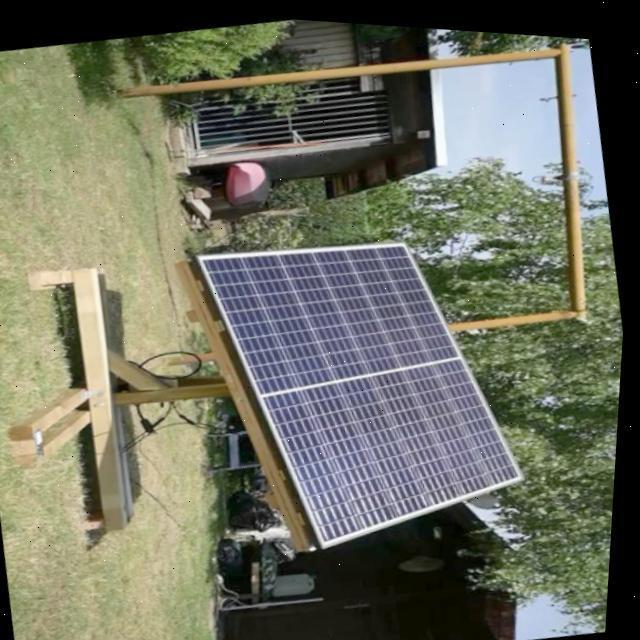Normal Solar Panel: (184, 202, 546, 568)
